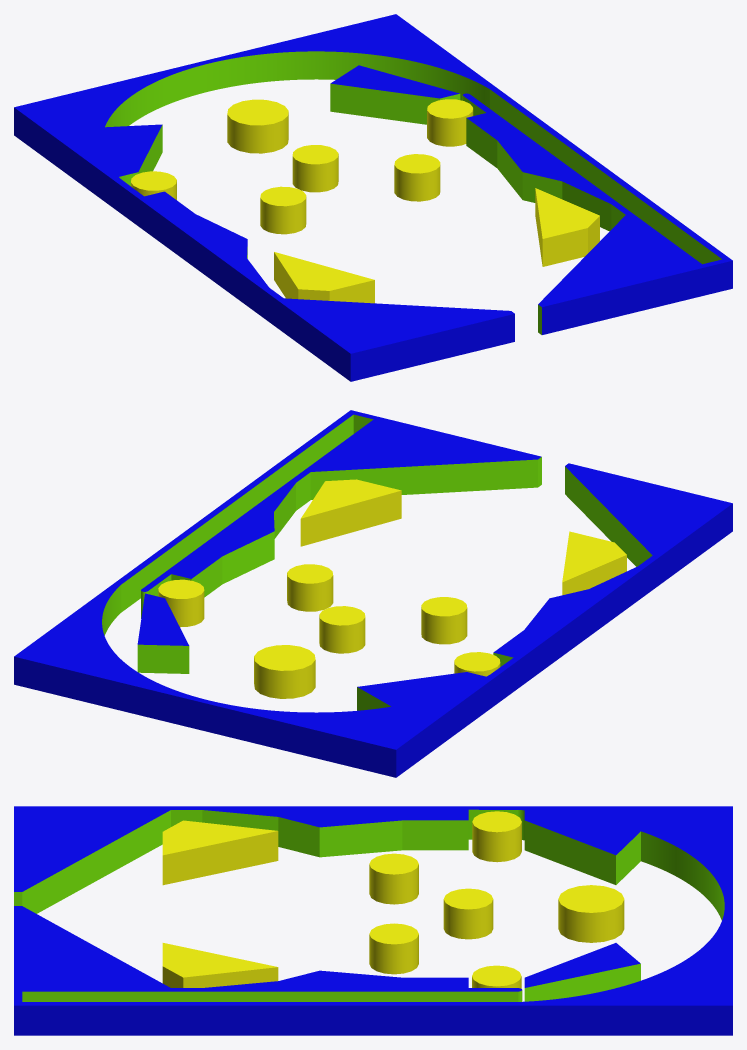
Rendered from board-v4.dae.
3 renders of one model, top to bottom at view 1: azimuth 30°, elevation 25°; view 2: azimuth 150°, elevation 25°; view 3: azimuth 270°, elevation 25°, orthographic. The views are drawn at different scales.
Parts seen in each view (by area): view 1: SketchUp (×12); view 2: SketchUp (×12); view 3: SketchUp (×12).
Part boxes in pixels (x1,y1,x2,y2): SketchUp (×12): (14,14,732,381); SketchUp (×12): (14,410,732,777); SketchUp (×12): (14,806,732,1035).
Size of the model in its own units: 22.44 by 34.25 by 1.57.
